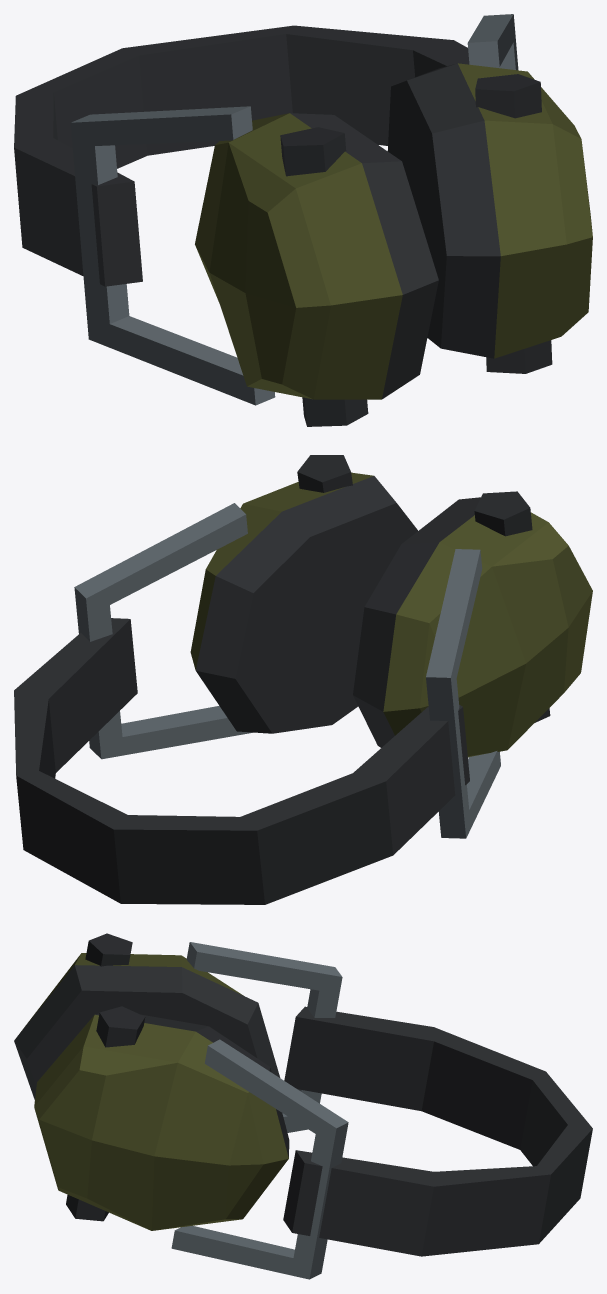
The model's file is SM_Item_Earmuffs_01.fbx.
3 views of the same model, one above another, from view 1: azimuth 30°, elevation 25°; view 2: azimuth 150°, elevation 25°; view 3: azimuth 270°, elevation 25° (orthographic). The views are drawn at different scales.
Parts seen in each view (by area): view 1: SM_Item_Earmuffs_01; view 2: SM_Item_Earmuffs_01; view 3: SM_Item_Earmuffs_01.
Part boxes in pixels (x1,y1,x2,y2): SM_Item_Earmuffs_01: (14,14,592,426); SM_Item_Earmuffs_01: (14,455,592,904); SM_Item_Earmuffs_01: (14,933,592,1279).
Bounding box in the file's own units: 19.67 × 12.22 × 29.49.
